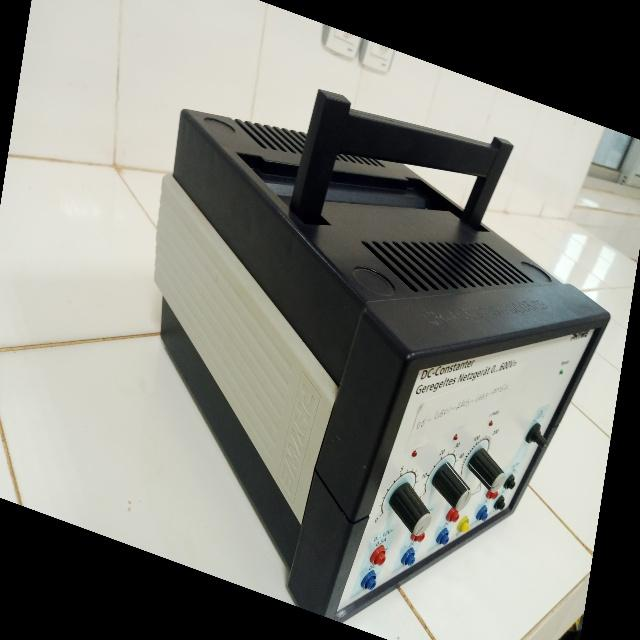DC Constant Power Supply 0-600V: (103, 21, 630, 640)
